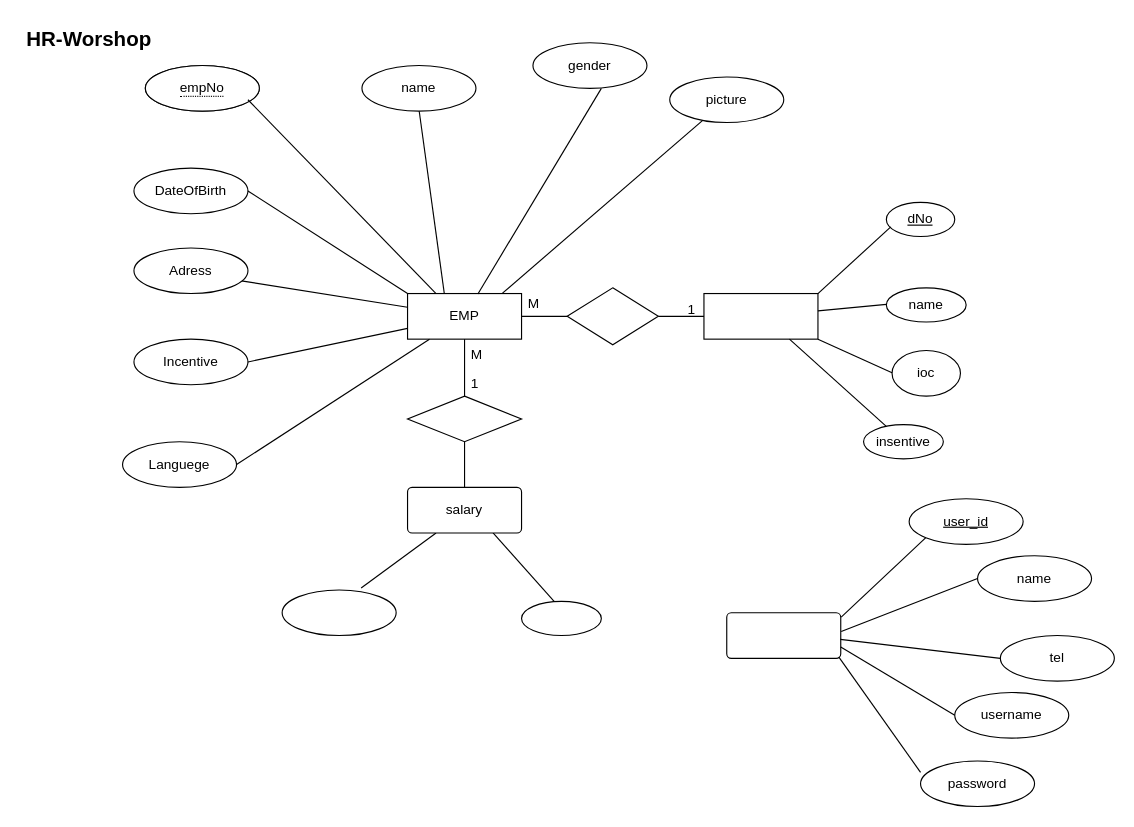
This 1134x827 diagram has some shape labels left out. Each missing label, with the centre of its shape:
department: [760,315]
Grade: [338,612]
has: [464,418]
is: [612,316]
sal: [560,618]
User: [783,635]
